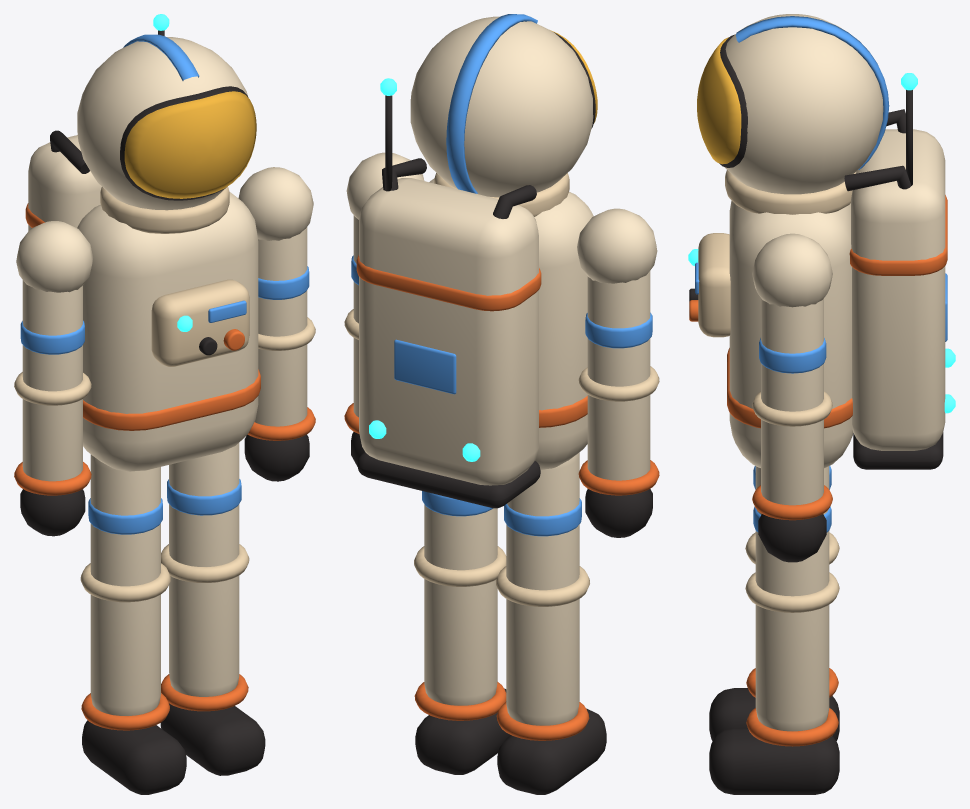
File: astro-b.glb
The picture shows the model from 3 angles, left to right: view 1: azimuth 30°, elevation 25°; view 2: azimuth 150°, elevation 25°; view 3: azimuth 270°, elevation 25°; orthographic projection. The views are drawn at different scales.
Parts seen in each view (by area): view 1: body, leg_r, leg_l, arm_r, arm_l; view 2: body, leg_r, arm_r, leg_l, arm_l; view 3: body, leg_l, arm_l, leg_r.
Part boxes in pixels (left/top/right/bottom): body: left=25, top=14, right=260, bottom=471; leg_r: left=80, top=454, right=186, bottom=794; leg_l: left=160, top=443, right=265, bottom=775; arm_r: left=14, top=221, right=93, bottom=536; arm_l: left=238, top=167, right=315, bottom=481; body: left=356, top=14, right=597, bottom=508; leg_r: left=496, top=452, right=606, bottom=794; arm_r: left=577, top=208, right=659, bottom=537; leg_l: left=414, top=491, right=510, bottom=774; arm_l: left=344, top=152, right=424, bottom=466; body: left=688, top=14, right=955, bottom=469; leg_l: left=709, top=466, right=839, bottom=794; arm_l: left=752, top=233, right=832, bottom=562; leg_r: left=709, top=466, right=839, bottom=740.
Size of the model in its own units: 0.78 by 1.84 by 0.5949.
